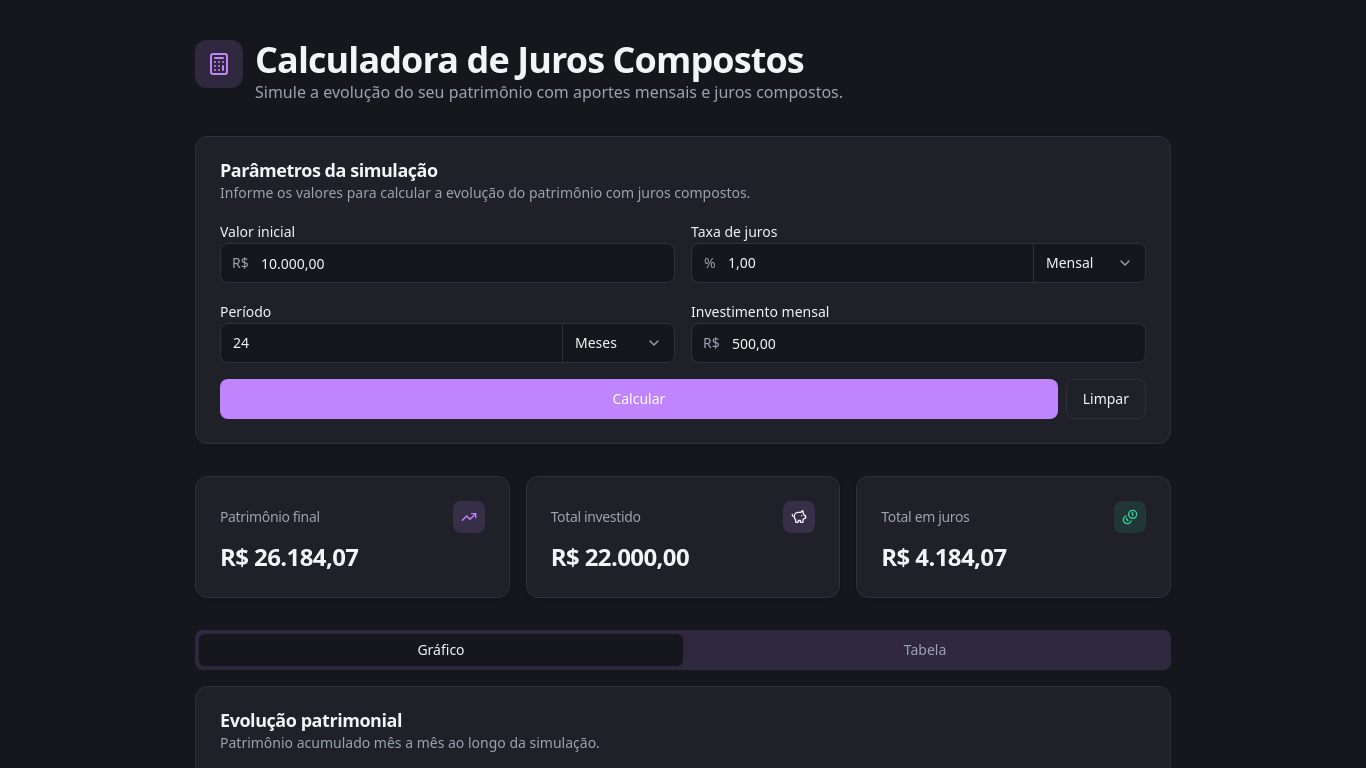
Test: CalculatorPage › restaura valores padrão ao limpar
Step 1. Replace the text in the field labelled "Valor inicial" with "500000" → (448, 263), box [220,243,675,283]
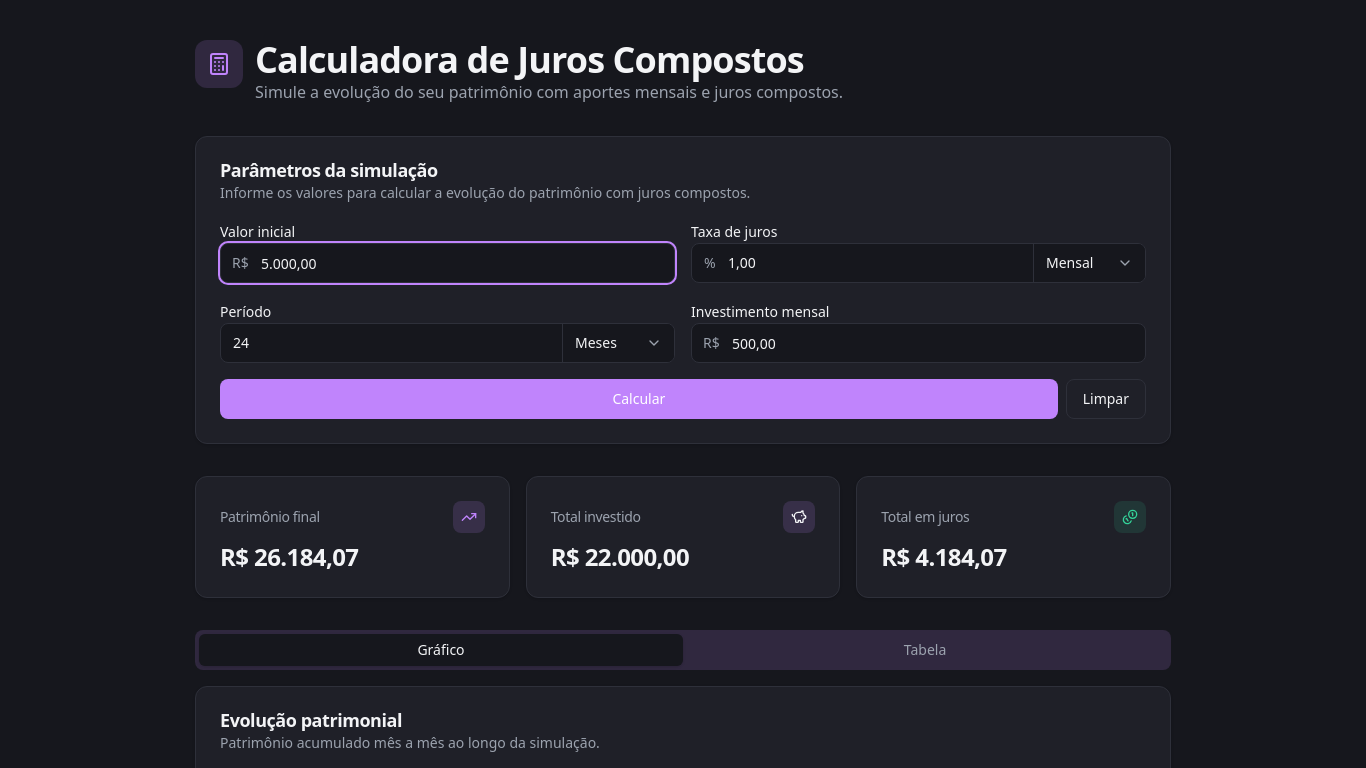
Step 2. Click the button "Calcular" → (639, 399), box [220,379,1058,419]
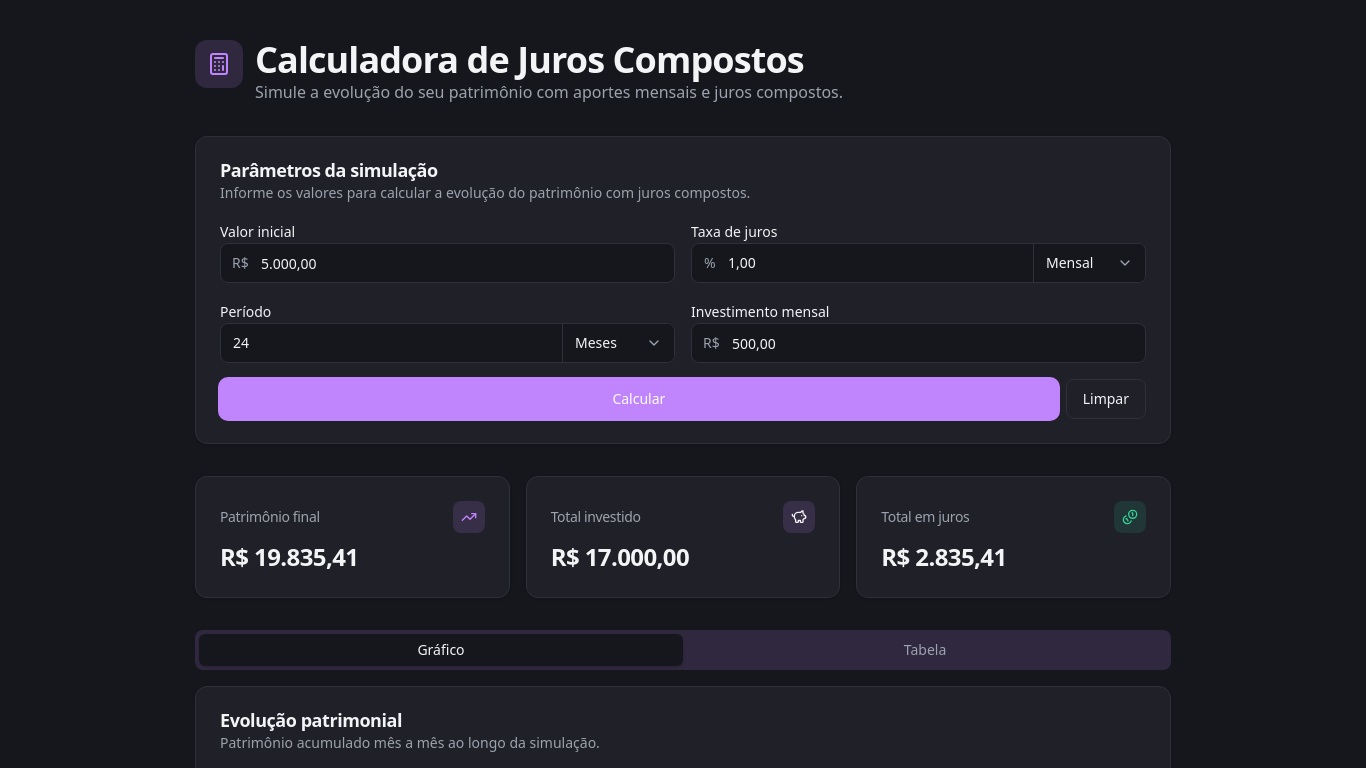
Step 3. Click the button "Limpar" → (1106, 399), box [1066,379,1146,419]
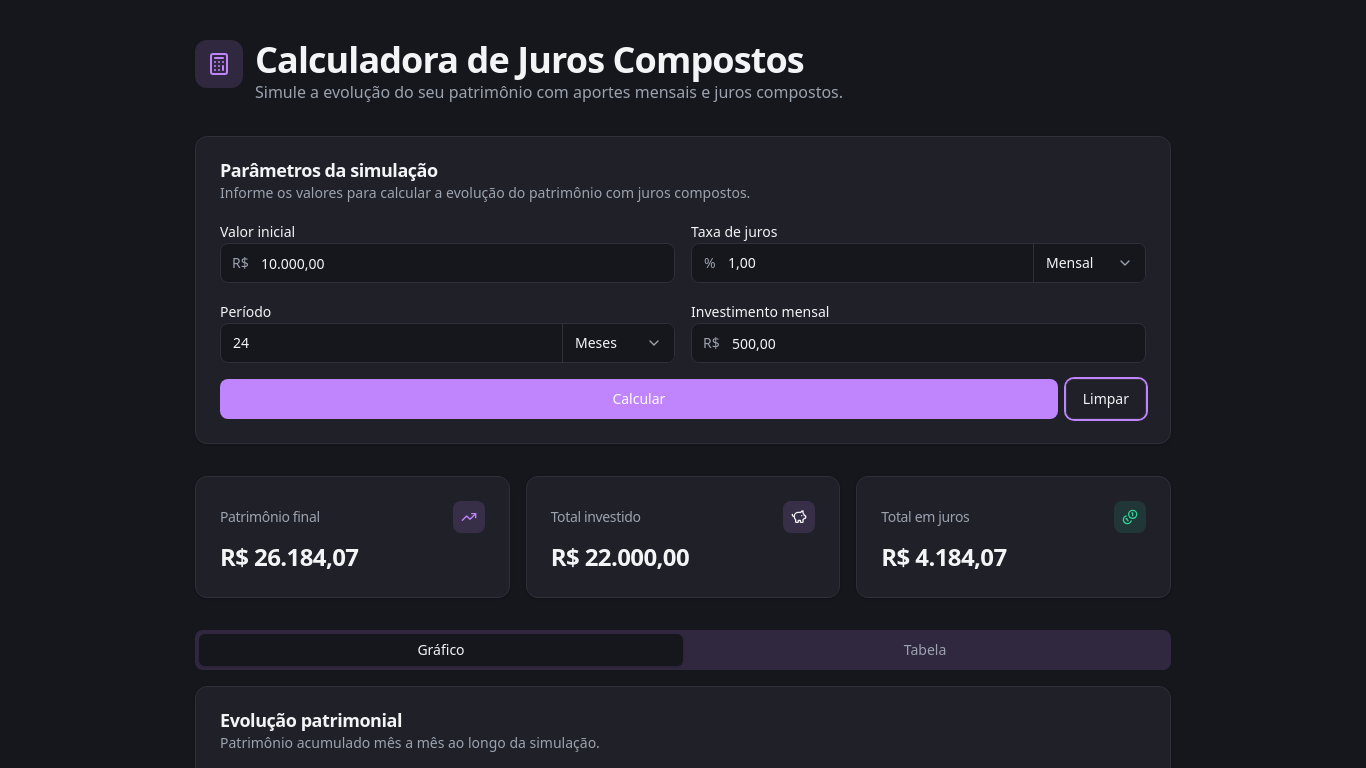
Result: the field labelled "Valor inicial" holds "10.000,00" at [220,243,675,283]
